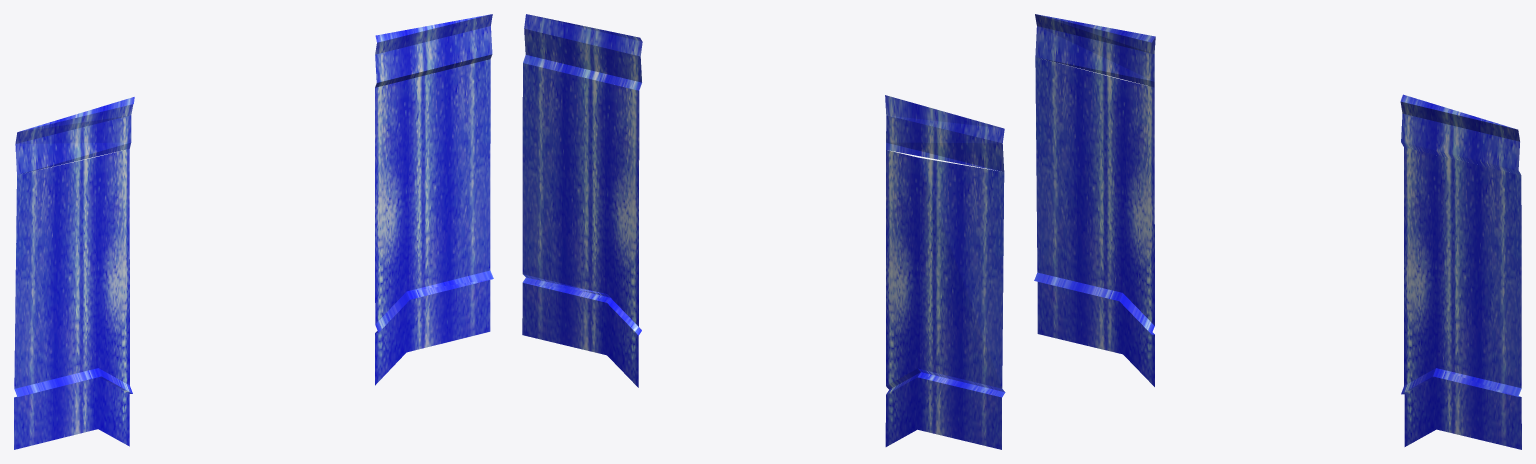
3 views of the same model, side by side, from view 1: azimuth 30°, elevation 25°; view 2: azimuth 150°, elevation 25°; view 3: azimuth 330°, elevation 25° (orthographic).
Bounding box in the file's own units: 0.761 × 0.5331 × 0.0156.
Materials: 1 (1 with a texture image).
